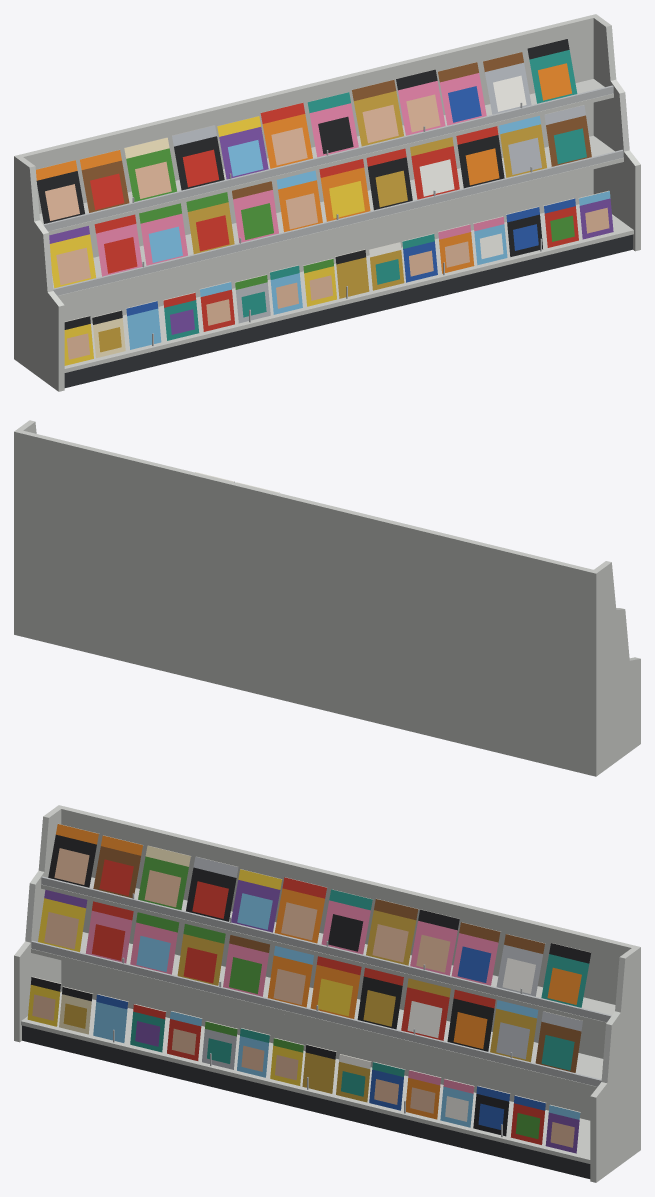
File: conbini_magazine.glb
The picture shows the model from 3 angles, top to bottom: view 1: azimuth 30°, elevation 25°; view 2: azimuth 150°, elevation 25°; view 3: azimuth 330°, elevation 25°; orthographic projection.
Parts seen in each view (by area): view 1: magazine_rack; view 2: magazine_rack; view 3: magazine_rack.
Part boxes in pixels (left/top/right/bottom): magazine_rack: left=14, top=14, right=640, bottom=391; magazine_rack: left=14, top=420, right=640, bottom=776; magazine_rack: left=14, top=805, right=640, bottom=1182.
Size of the model in its own units: 3 by 1 by 0.4.
